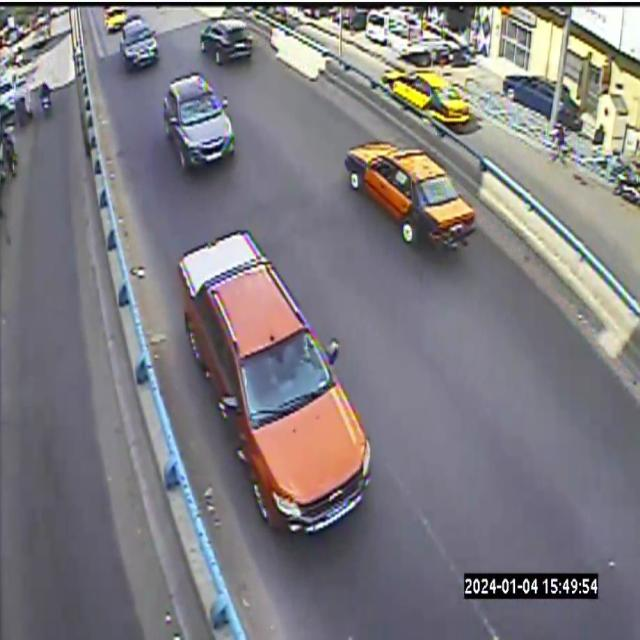car: (178, 231, 370, 533), (344, 141, 474, 248), (163, 75, 234, 170), (381, 68, 472, 125), (200, 18, 252, 64), (120, 20, 159, 68), (104, 7, 126, 33)
